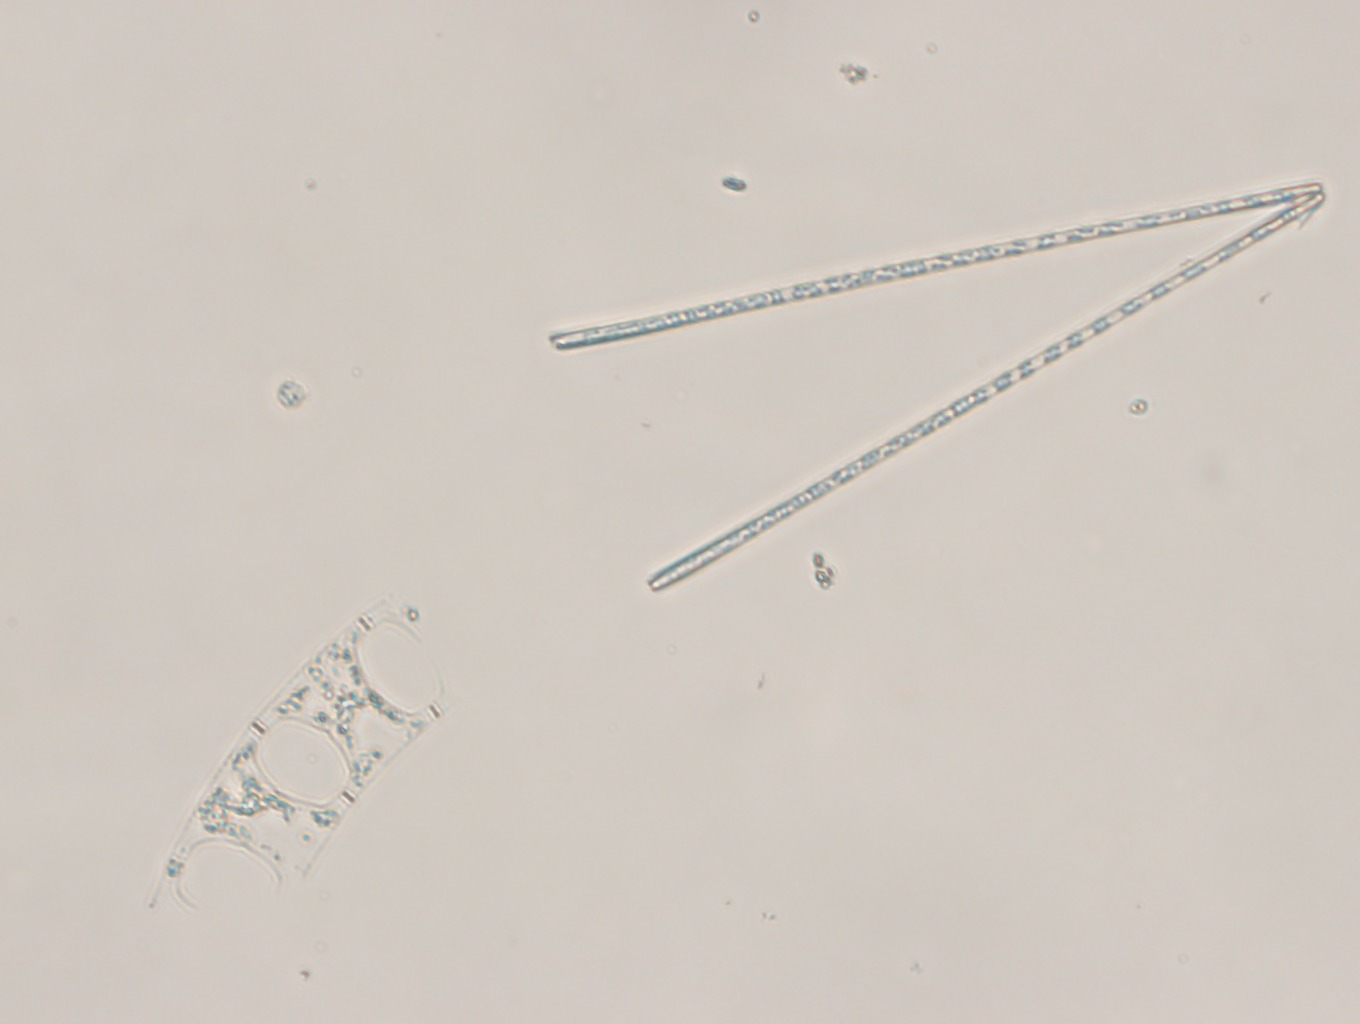eucampia: (145, 585, 468, 927)
thalassionema frauenfeldii: (543, 173, 1333, 594)
